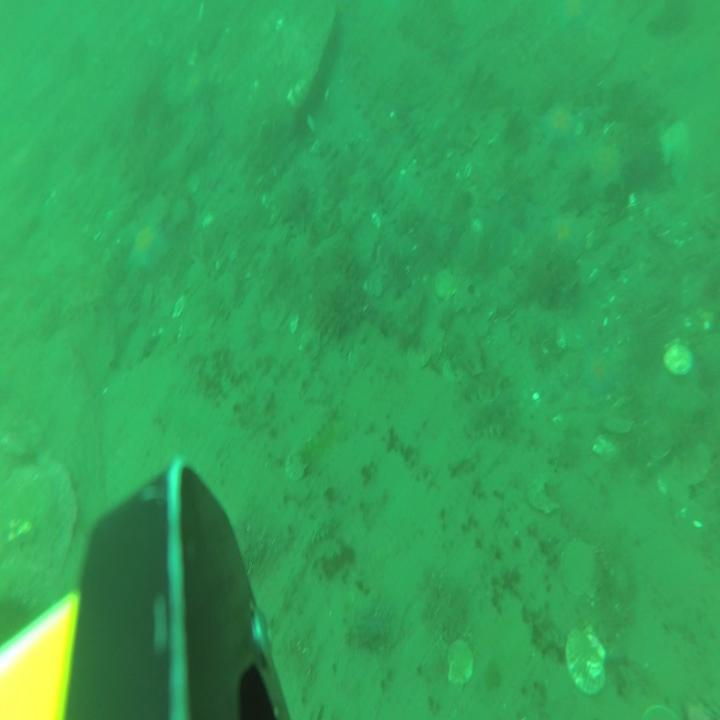holothurian: (463, 388, 516, 437)
scallop: (567, 622, 607, 695), (560, 538, 596, 598), (445, 636, 474, 690), (530, 469, 560, 515), (663, 336, 693, 378), (286, 449, 310, 483), (434, 267, 454, 299)
starfish: (128, 221, 168, 275), (550, 209, 588, 264), (588, 144, 626, 195), (662, 119, 696, 170), (582, 353, 617, 399), (543, 101, 577, 147)
